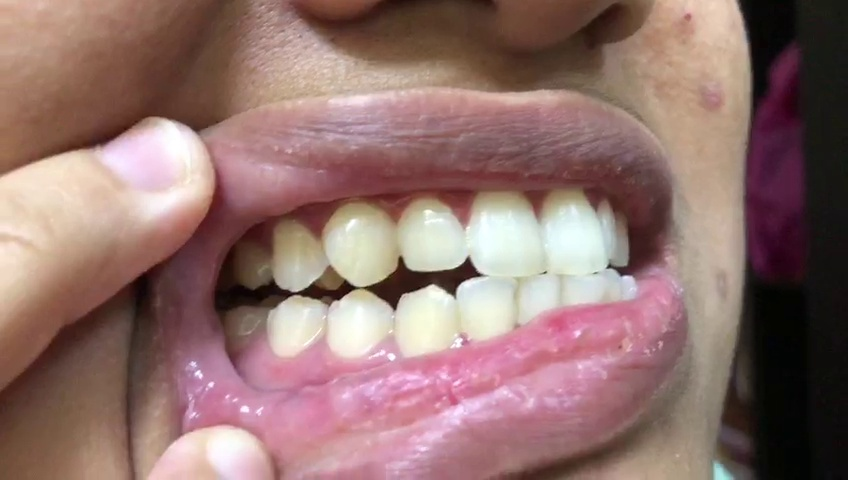1st Molar: (226, 299, 265, 348)
1st Premolar: (328, 288, 396, 358), (269, 224, 330, 293)
2nd Premolar: (265, 295, 327, 360), (230, 234, 272, 291)
Canine: (323, 197, 396, 290), (397, 284, 458, 355)
Central Incisor: (466, 188, 547, 279), (541, 186, 609, 276)
Lateral Incisor: (398, 196, 467, 272), (456, 276, 518, 342)
